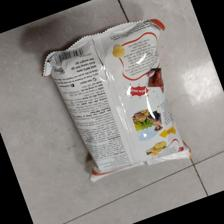Lays: (40, 18, 192, 182)
